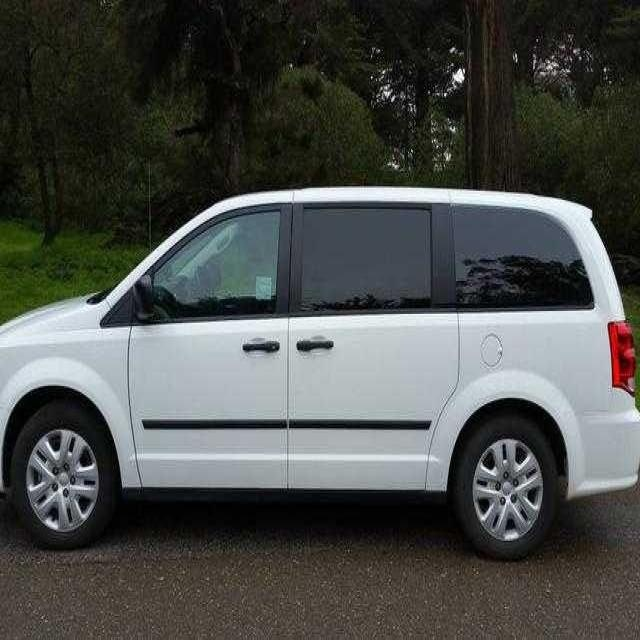Van: (0, 181, 640, 557)
